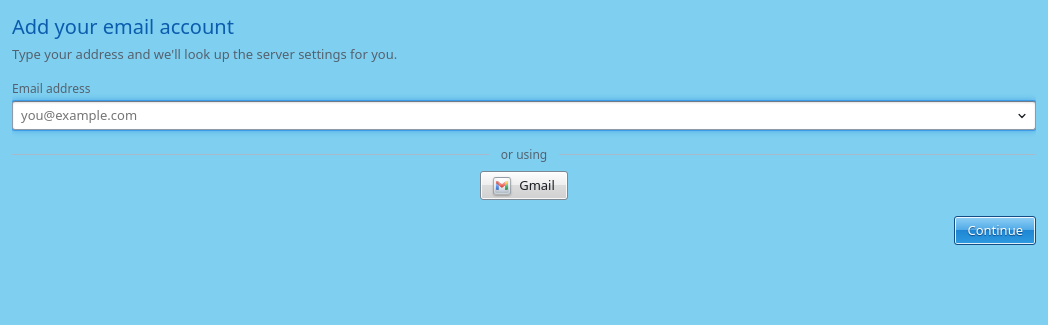
Test: AccountSetup › by picking the account on the provider's page › waits for the browser and can be cancelled without an error
The width and height of the screenshot is (1048, 325).
Click the button "Gmail".
click(524, 186)  # box [480,172,568,200]
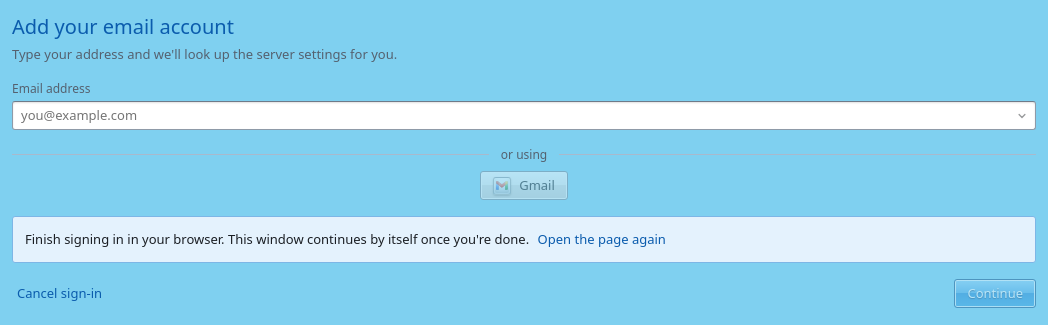
Now the text "Finish signing in in your browser" is shown, box [25,230,533,248]
Now the button "Gmail" is disabled, box [480,172,568,200]
Click the button "Cancel sign-in".
click(60, 294)  # box [12,279,107,308]
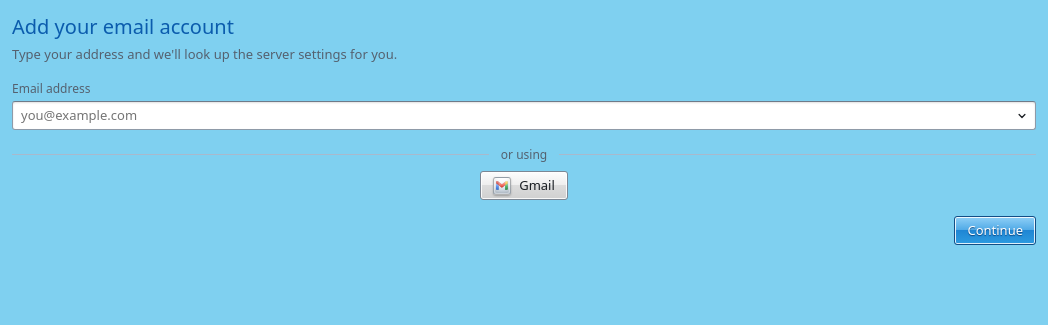
Now the button "Gmail" is enabled, box [480,172,568,200]
